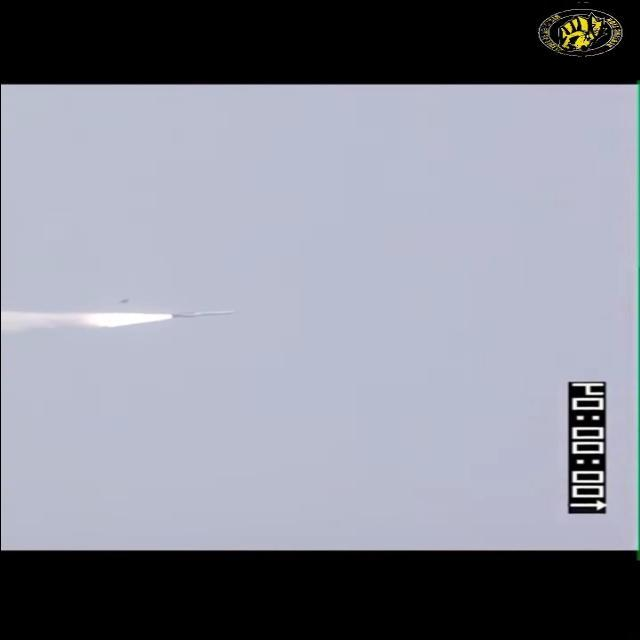missile: (166, 308, 243, 320)
